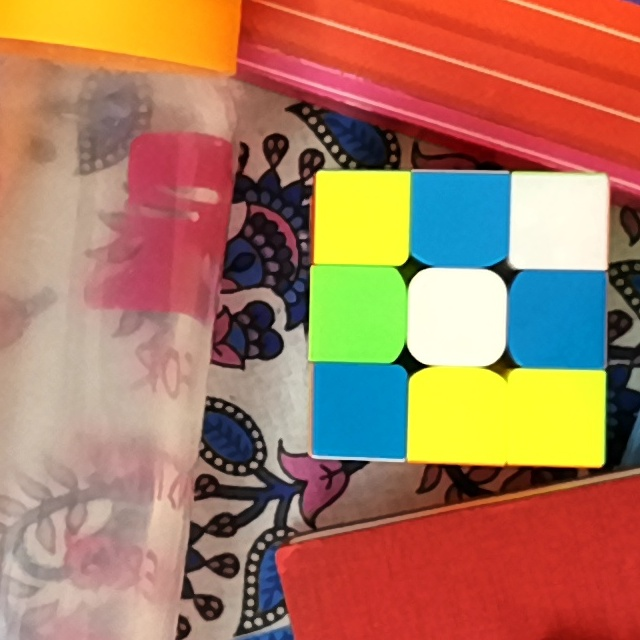tile: (416, 177, 502, 259), (520, 178, 602, 264), (320, 368, 403, 449), (517, 376, 598, 459), (520, 277, 599, 362), (315, 272, 397, 353), (417, 381, 501, 457), (322, 178, 401, 257), (418, 282, 491, 356)
